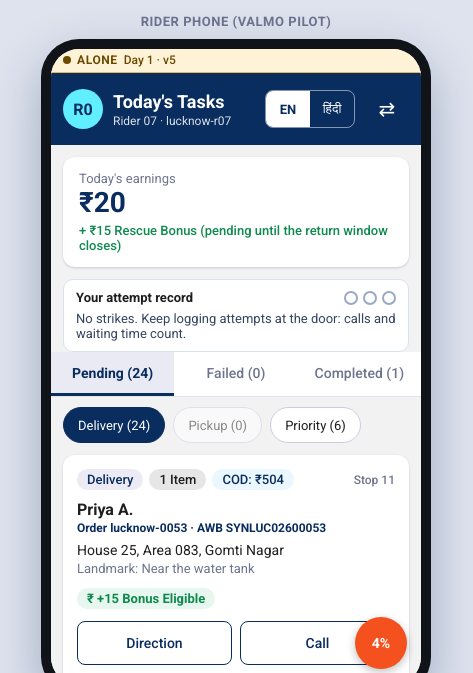
Test: the parking-gap hold on the captain screen › the rider sees why the ₹15 is waiting, in English and in Hindi
The width and height of the screenshot is (473, 673).
Click the tab "Completed (1)". click: (359, 374)
box: [298, 352, 421, 396]
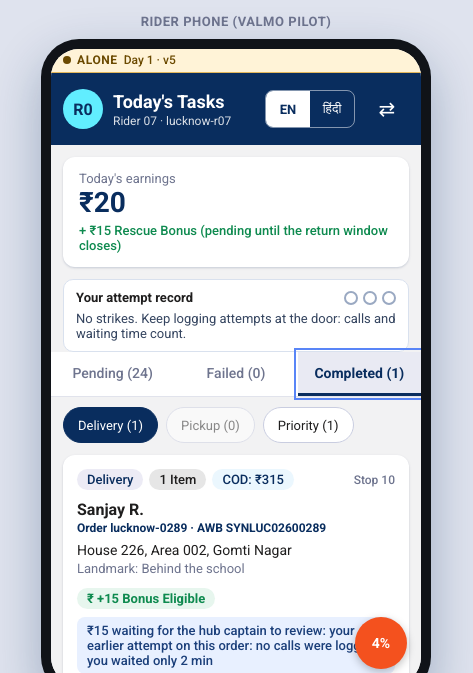
Now the text "₹15 waiting for the hub captain to review: your earlier attempt on this order: no calls were logged" is shown, box [87, 622, 378, 668]
Click the button "हिंदी". click: (332, 109)
box: [310, 91, 354, 127]
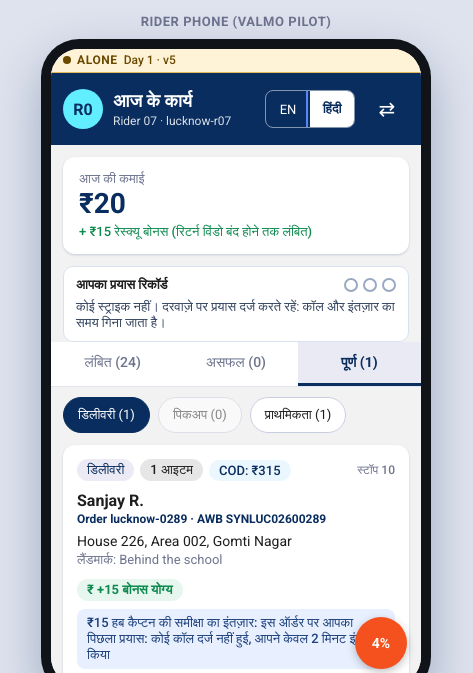
Now the text "हब कैप्टन की समीक्षा का इंतज़ार" is shown, box [87, 614, 381, 662]
